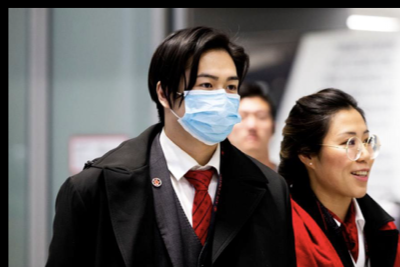with_mask: (176, 72, 242, 146)
without_mask: (317, 126, 376, 198), (231, 96, 274, 153)
